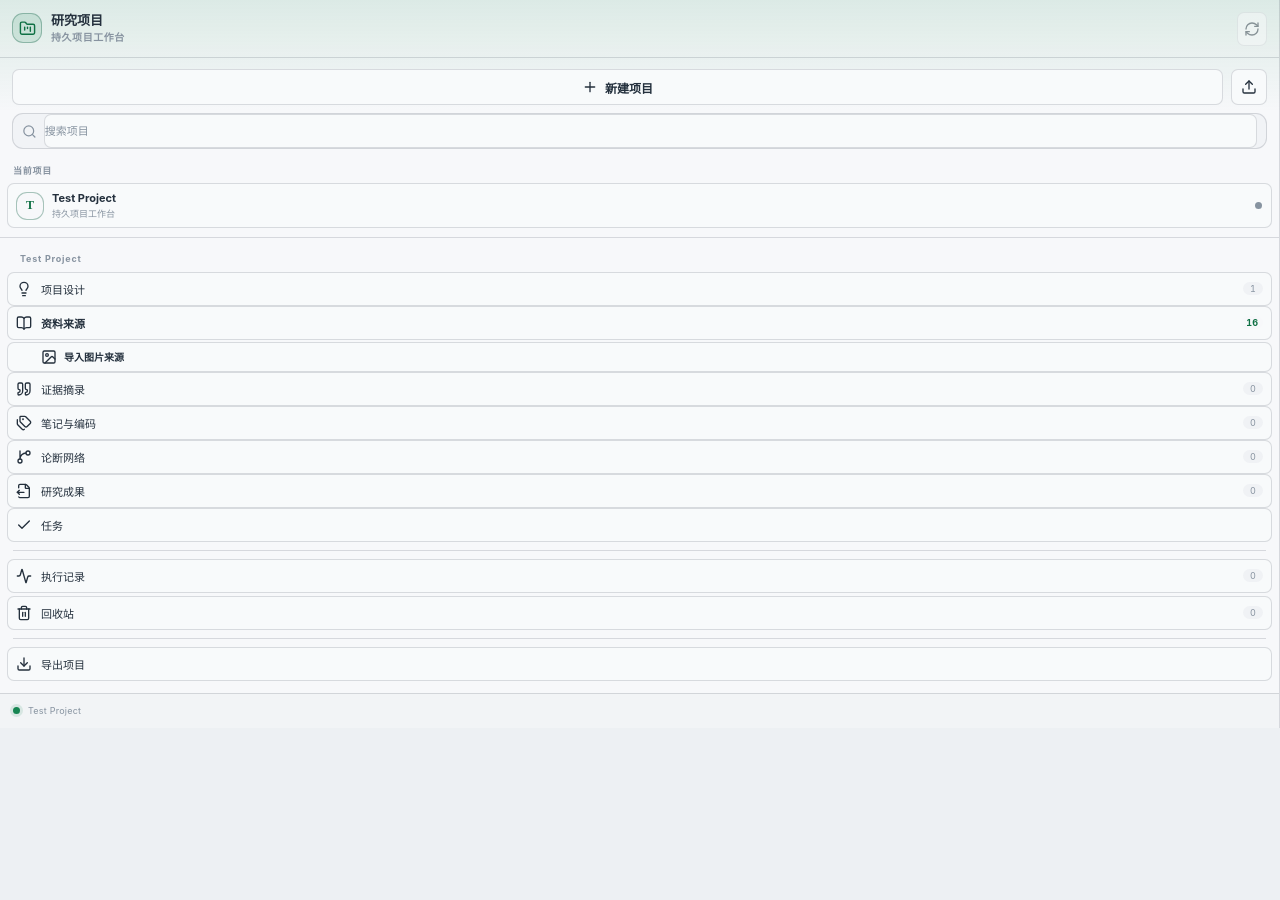
MEDIA-304 Phase B — ProjectWorkspaceSidebar image import › refuses a 17th image and requires manual management
What coordinates should you click on to do the following:
click the button "导入图片来源"
I would click on:
 (94, 357)
Its box is [7,342,1272,372].
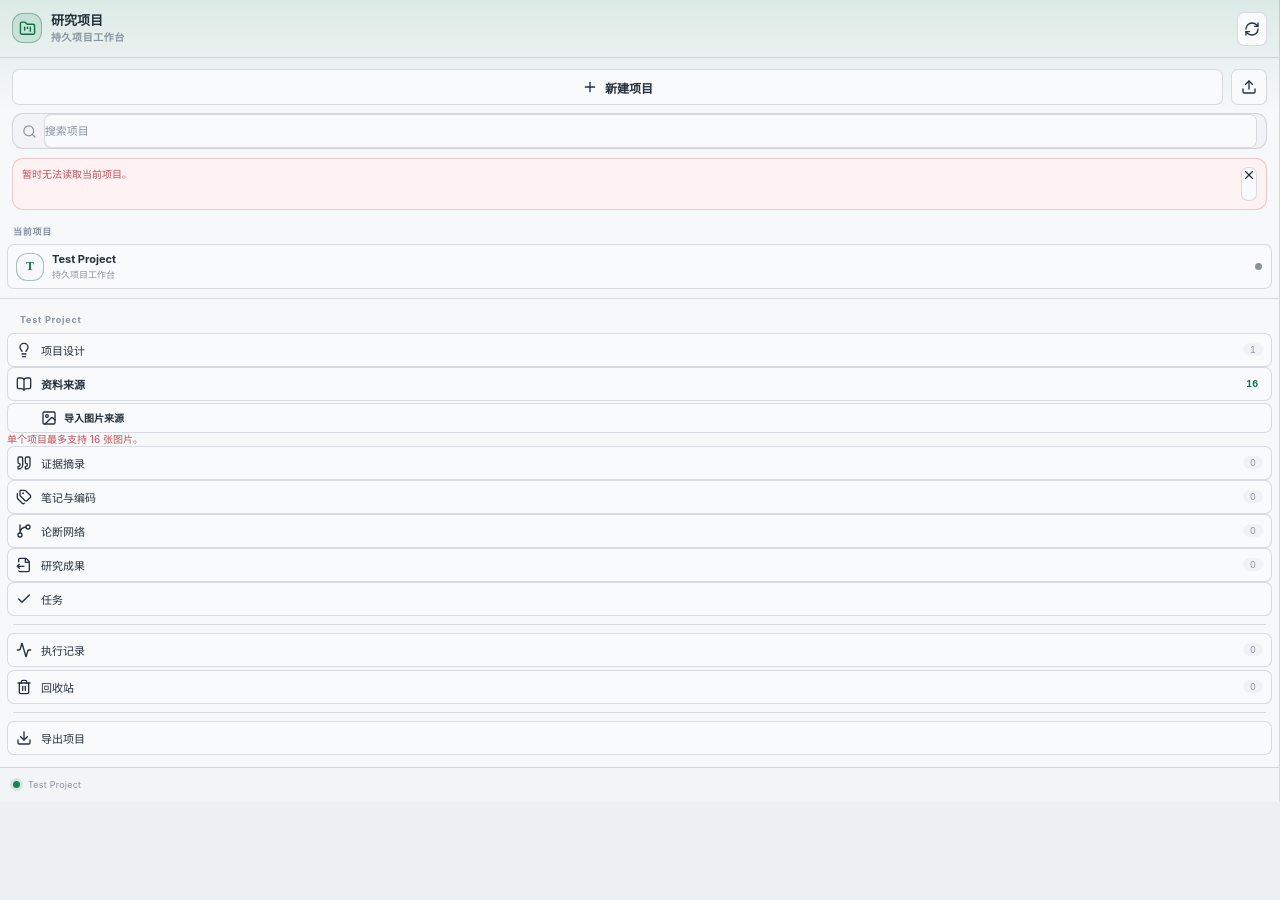
Check: the message "单个项目最多支持 16 张图片。" is shown, box [7,433,143,445]
